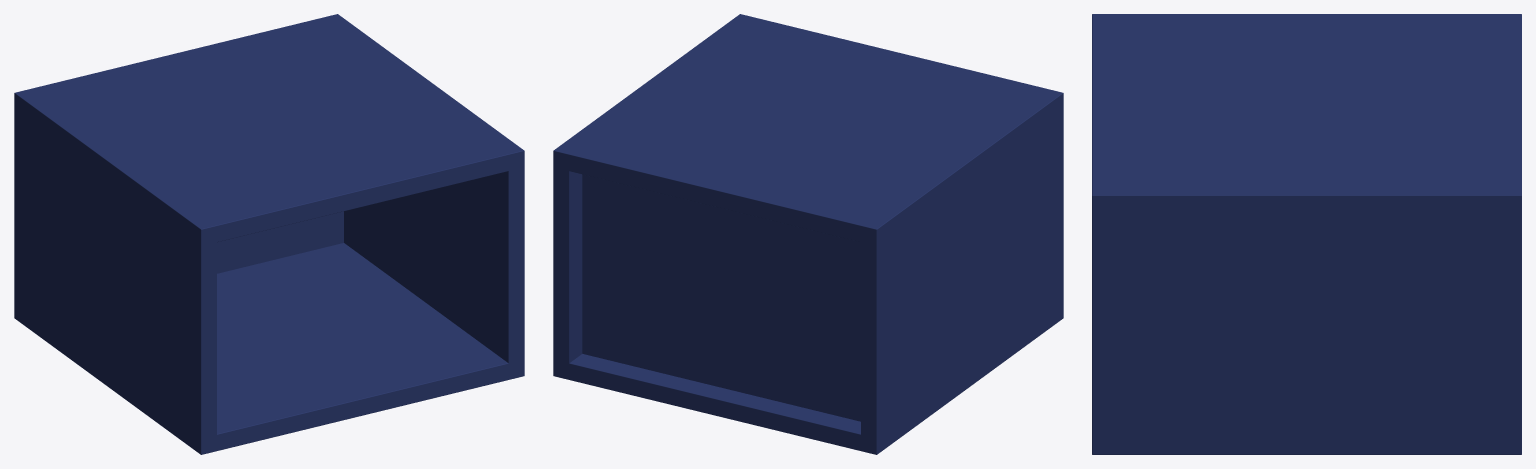
File: MOD_1X07_A_B_AF.glb
The picture shows the model from 3 angles, left to right: view 1: azimuth 30°, elevation 25°; view 2: azimuth 150°, elevation 25°; view 3: azimuth 270°, elevation 25°; orthographic projection. The views are drawn at different scales.
Bounding box in the file's own units: 360 × 240 × 360.
